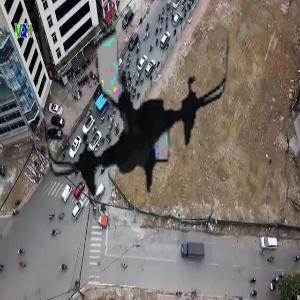drone: (35, 4, 240, 209)
